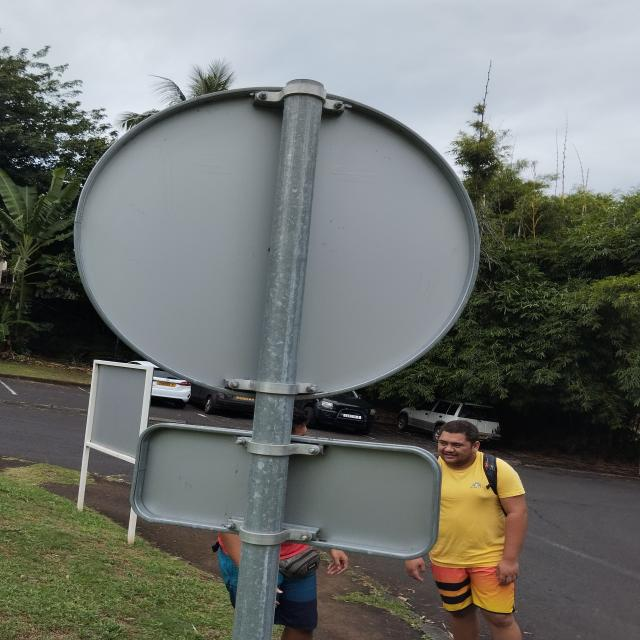Panneau: (65, 74, 480, 407)
